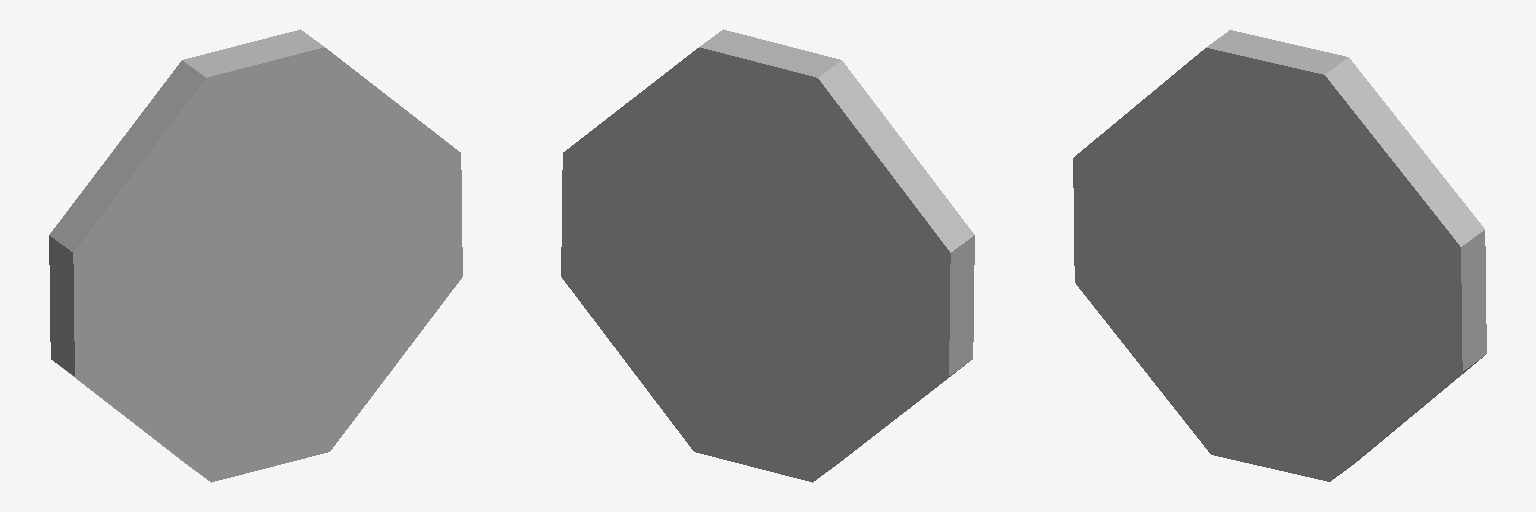
3 views of the same model, side by side, from view 1: azimuth 30°, elevation 25°; view 2: azimuth 150°, elevation 25°; view 3: azimuth 330°, elevation 25° (orthographic).
Visible parts, largest first — view 1: SilverCoin; view 2: SilverCoin; view 3: SilverCoin.
Part boxes in pixels (x1,y1,x2,y2): SilverCoin: (49, 29, 462, 482); SilverCoin: (561, 29, 974, 482); SilverCoin: (1073, 30, 1486, 481).
Bounding box in the file's own units: 0.3339 × 0.3339 × 0.036.
Materials: 1 (1 with a texture image).